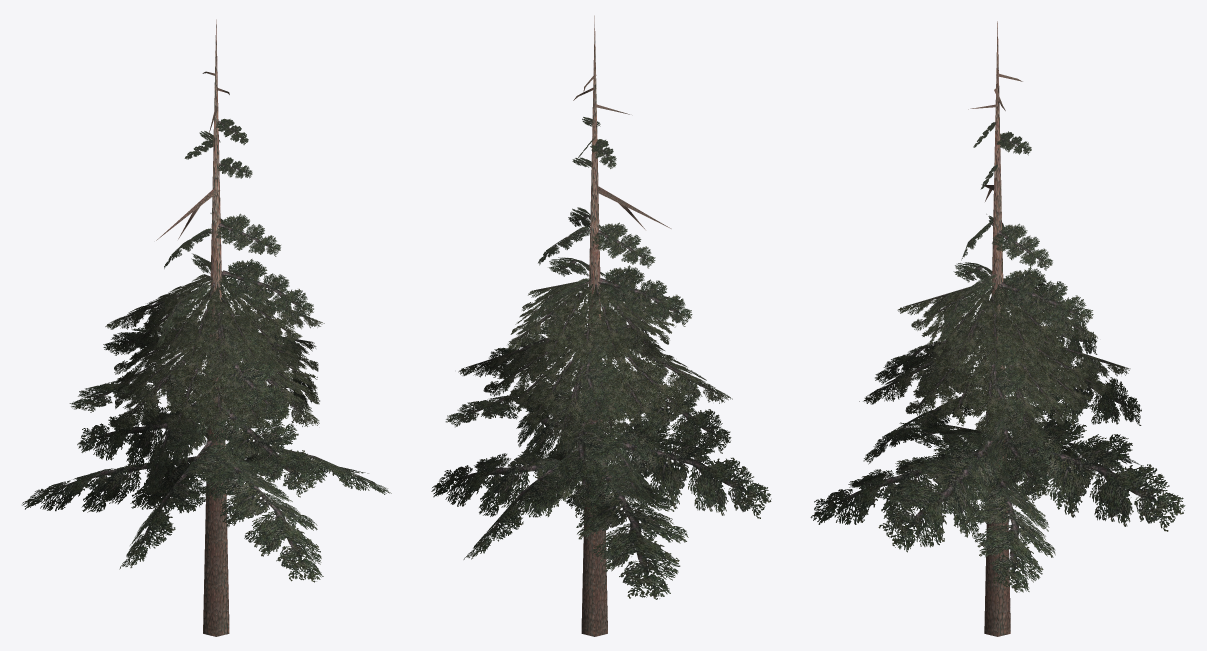
The model's file is conf_mtns_pine_broken_l0.fbx.
3 views of the same model, side by side, from view 1: azimuth 30°, elevation 25°; view 2: azimuth 150°, elevation 25°; view 3: azimuth 270°, elevation 25° (orthographic).
Visible parts, largest first — view 1: mesh_node; view 2: mesh_node; view 3: mesh_node.
Part boxes in pixels (<box>): mesh_node: <box>22,19,391,636</box>; mesh_node: <box>431,15,771,636</box>; mesh_node: <box>810,21,1185,636</box>.
Size of the model in its own units: 9.78 by 19.57 by 11.12.
